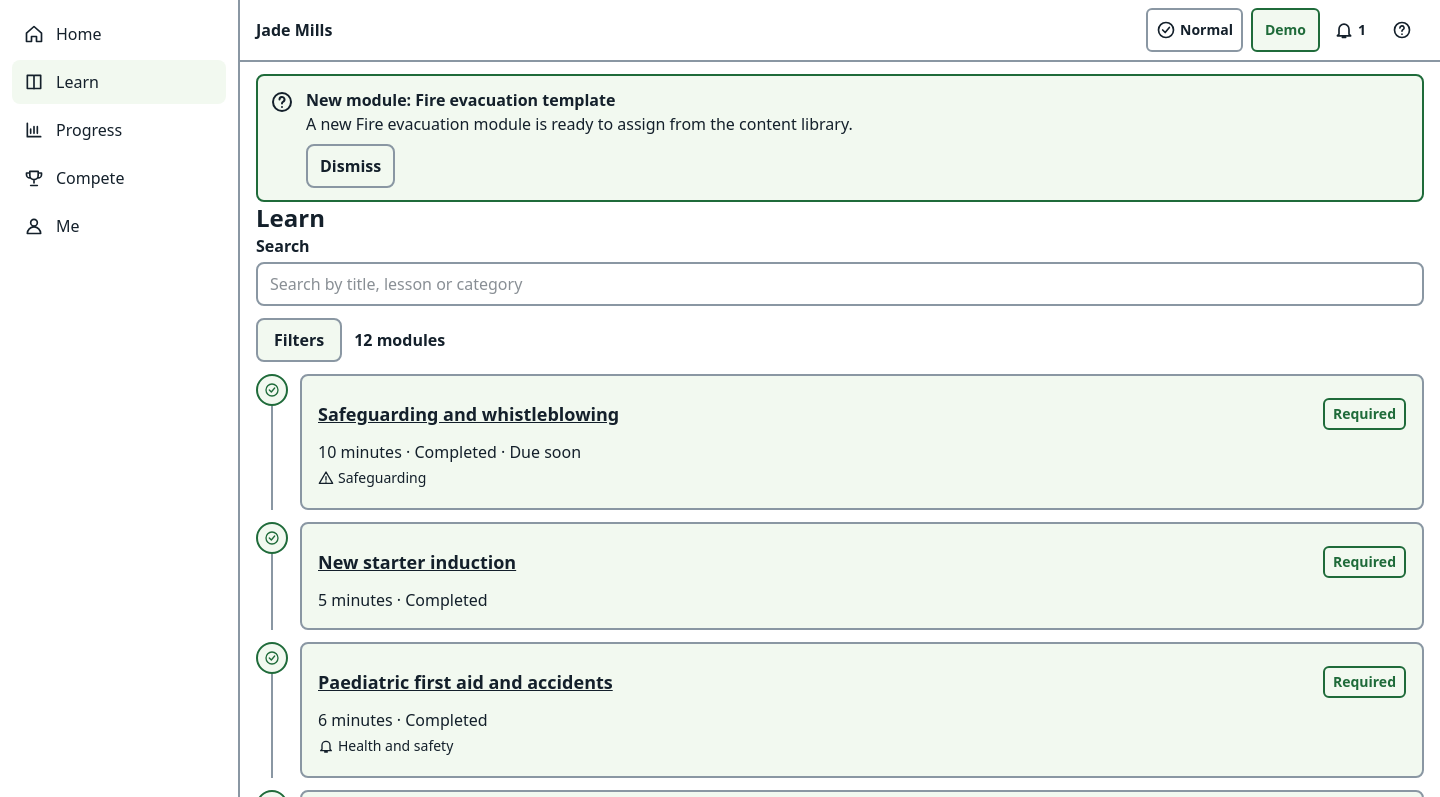
Test case: S3 Learn: search (BP-6) › does not find a Coming soon topic as a module, and hides the Coming soon cards while searching
Expected: the heading "Learn" is shown, left=256, top=202, right=325, bottom=234
Type "behaviour" into the search field labelled "Search". click: (840, 284)
box: left=256, top=262, right=1424, bottom=306
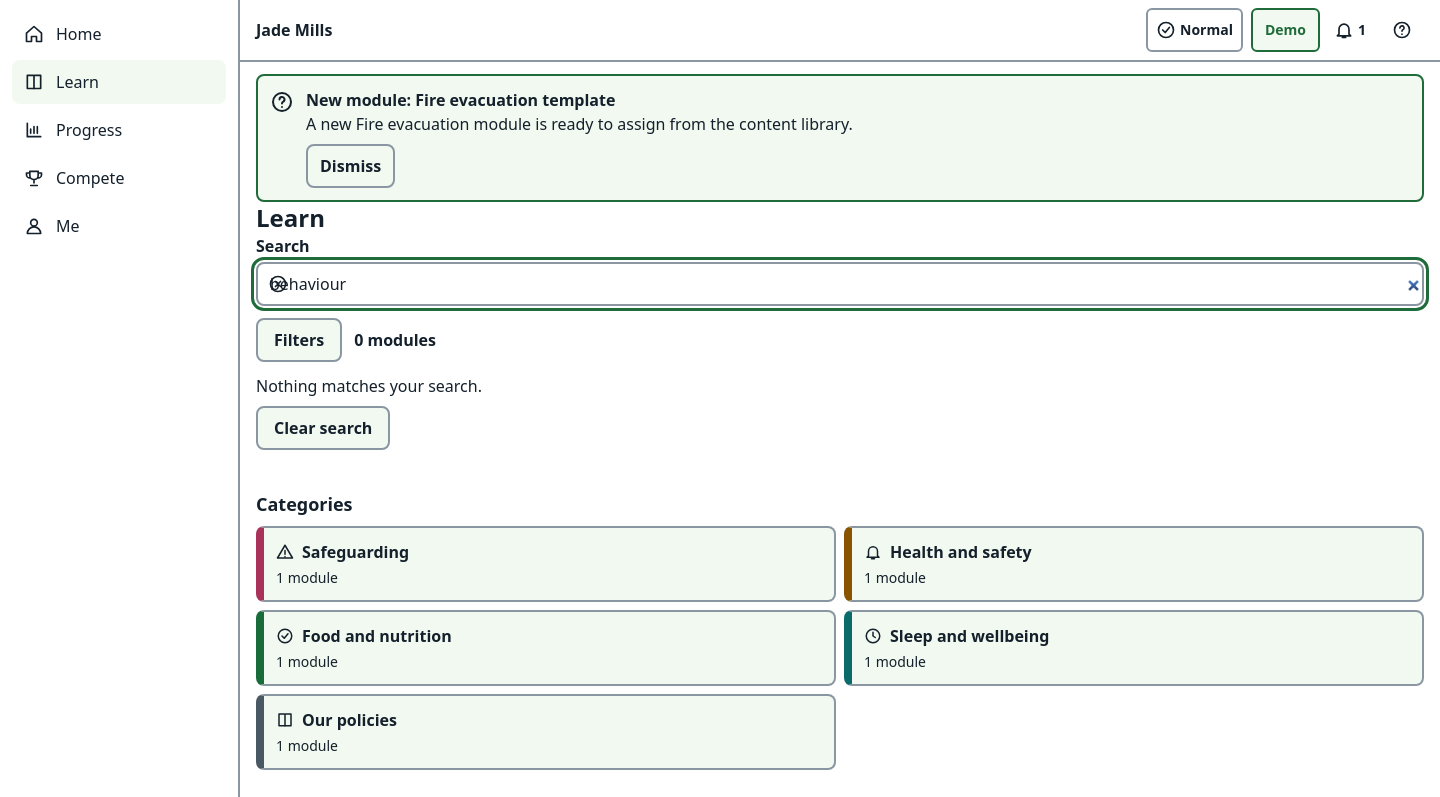
Now the text with test id "learn-count" reads "0 modules", box left=354, top=329, right=436, bottom=351
